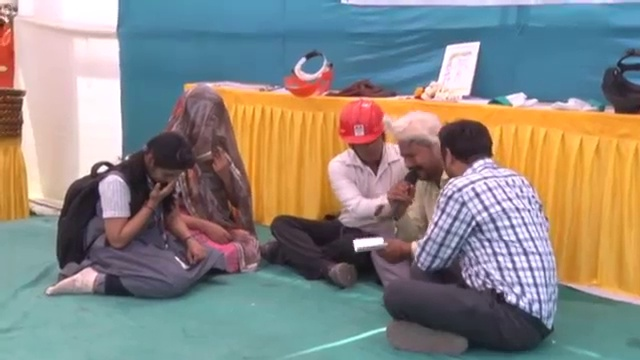helmet: (335, 100, 393, 143)
helmet_off: (174, 88, 231, 169), (437, 120, 500, 186), (390, 110, 441, 186), (130, 131, 196, 189)
helmet_on: (335, 98, 396, 171)
person: (362, 114, 575, 327), (43, 123, 230, 294), (267, 91, 404, 277), (164, 86, 257, 275), (375, 111, 455, 277)
